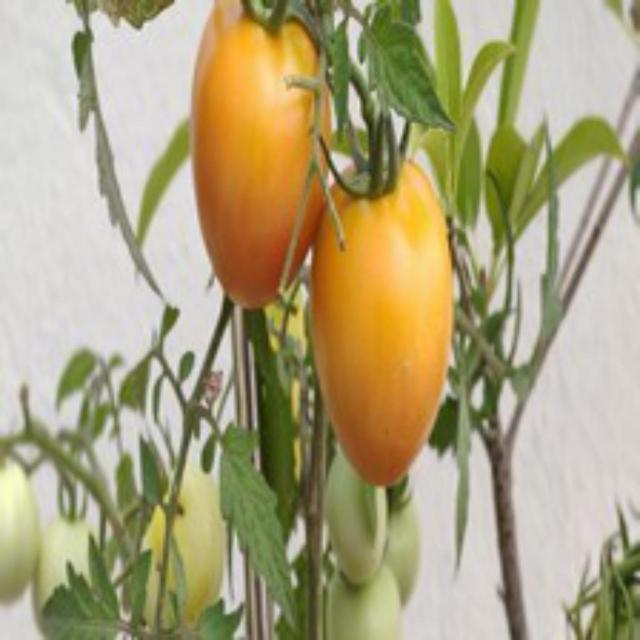tomato: (188, 0, 346, 324)
